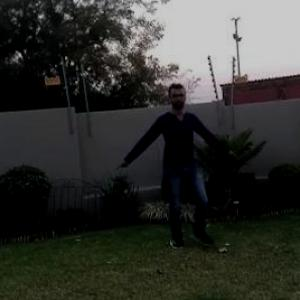land: (118, 91, 226, 234)
